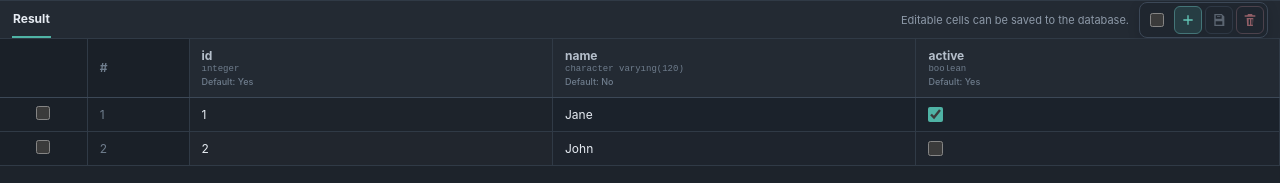
Test case: ResultPanel › deletes all selected persisted rows with one confirmation
Click the checkbox named "Select row 1" at (43, 112), box [36,106,50,120]
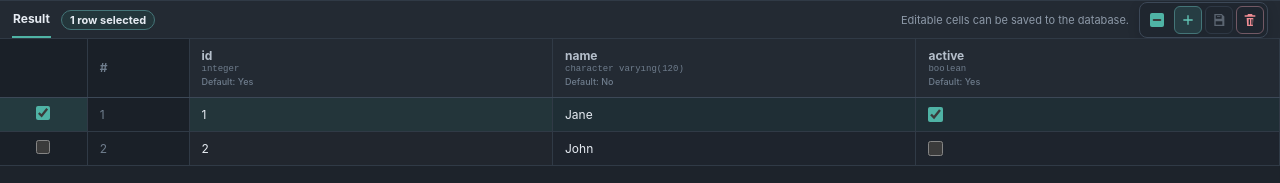
Click the checkbox named "Select row 2" at (43, 146), box [36,140,50,154]
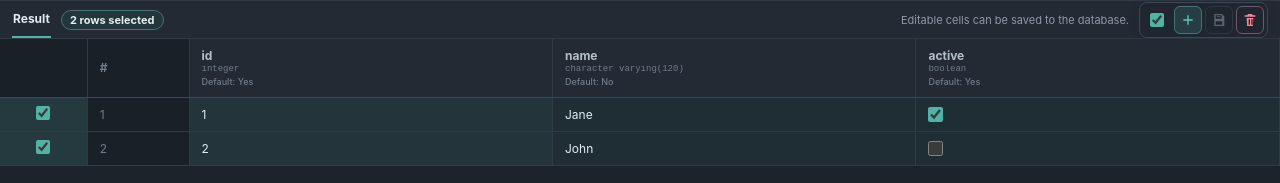
Click the button named "Delete selected rows" at (1250, 20), box [1236,6,1264,34]
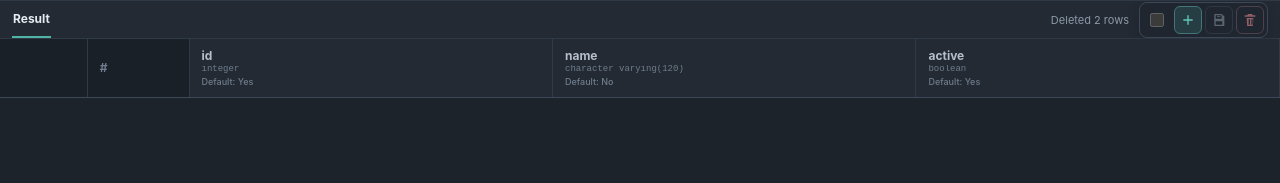
Expected: the text "Deleted 2 rows" is shown, [1051,12,1129,26]
